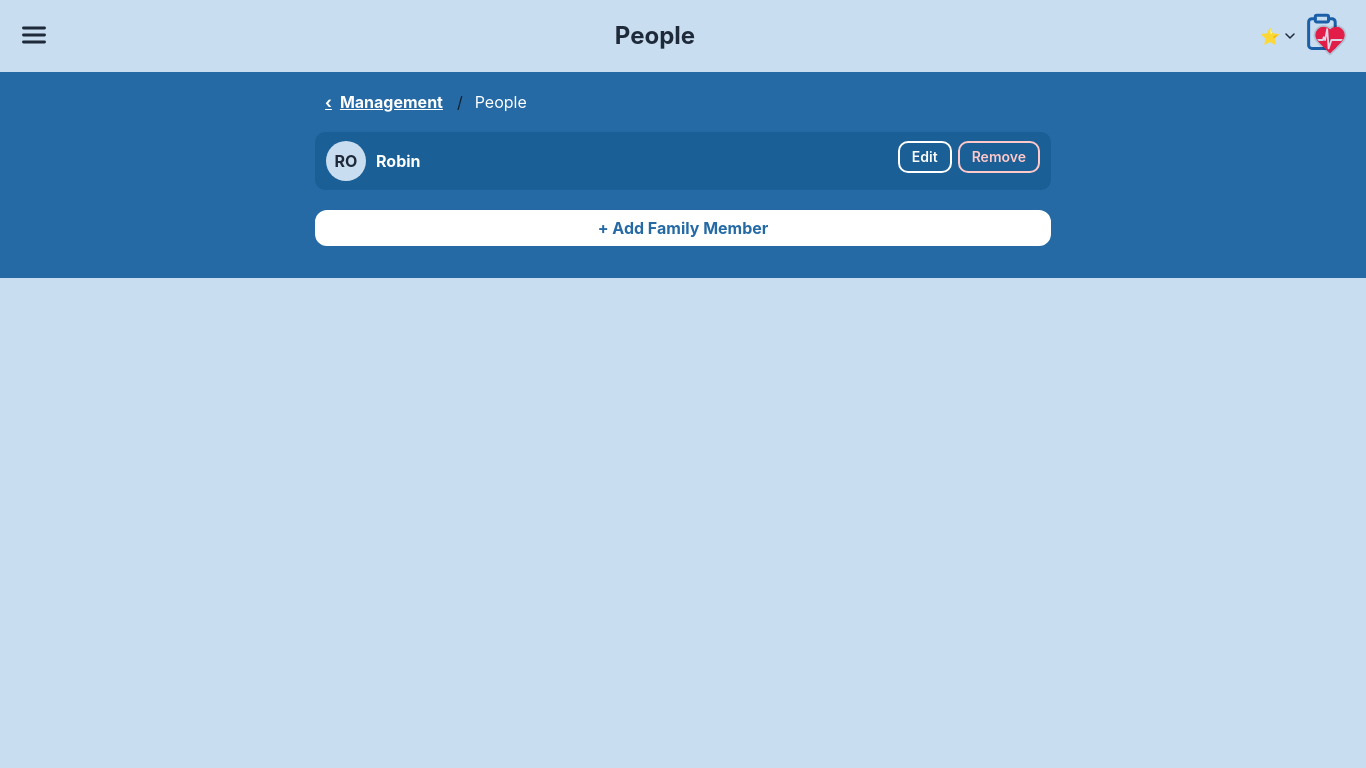
Test: Remove person dialog › explains that records stay and can be exported or erased from Data Export & Restore
Step 1. Click the button with aria-label "Remove Robin" → coordinates (999, 157), box [958, 141, 1040, 173]
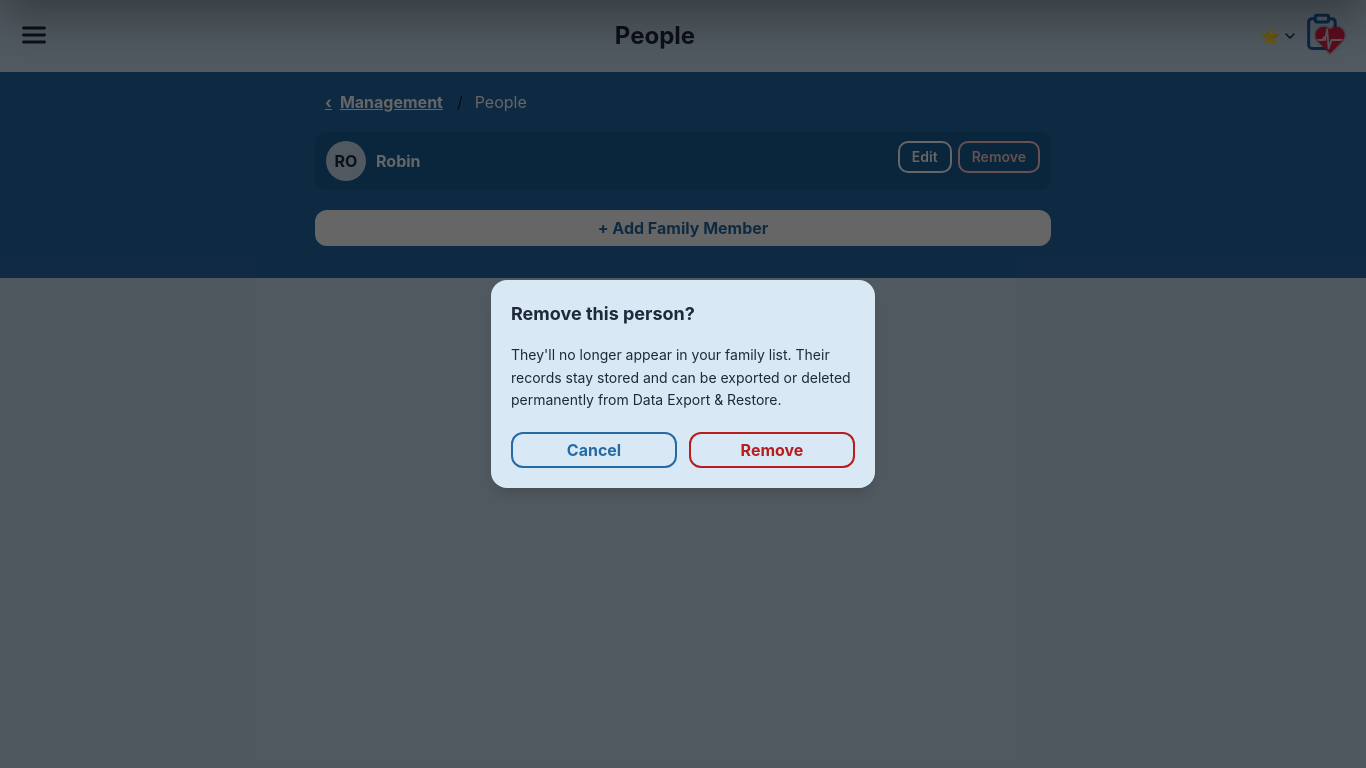
expect the dialog "Remove this person?" shows "They'll no longer appear in your family list. Their records stay stored and can be exported or deleted permanently from Data Export & Restore.": met, box [511, 346, 851, 408]
